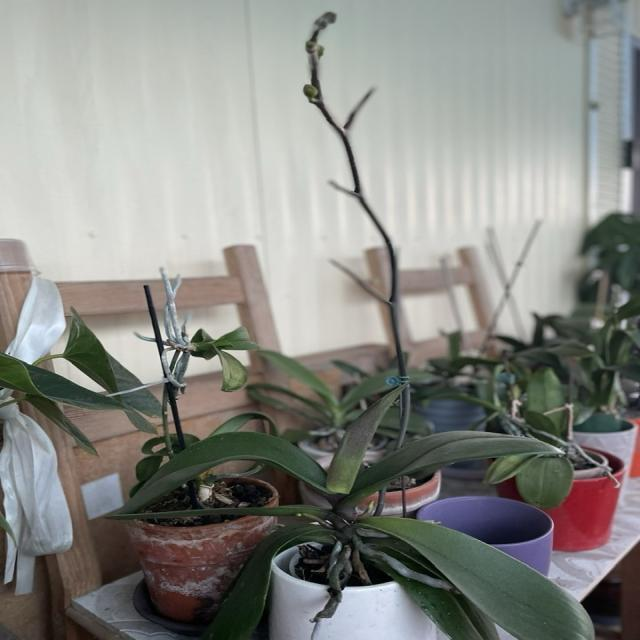leaf: (361, 518, 593, 639), (129, 431, 325, 510), (346, 432, 555, 504), (206, 521, 331, 639), (212, 334, 337, 411), (328, 391, 399, 492)
plant: (122, 309, 640, 640)
pot: (278, 531, 443, 640)
root: (361, 545, 451, 589), (312, 541, 351, 627)
stem: (330, 513, 370, 585)
